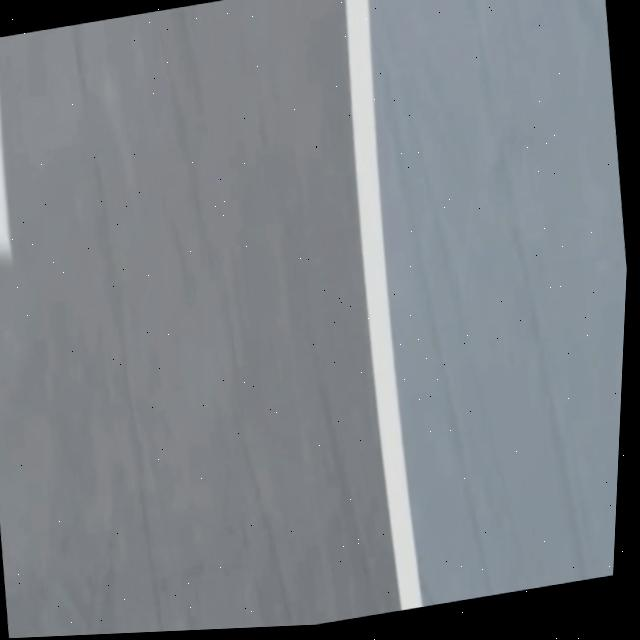center: (0, 105, 12, 260)
left: (346, 0, 423, 610)
